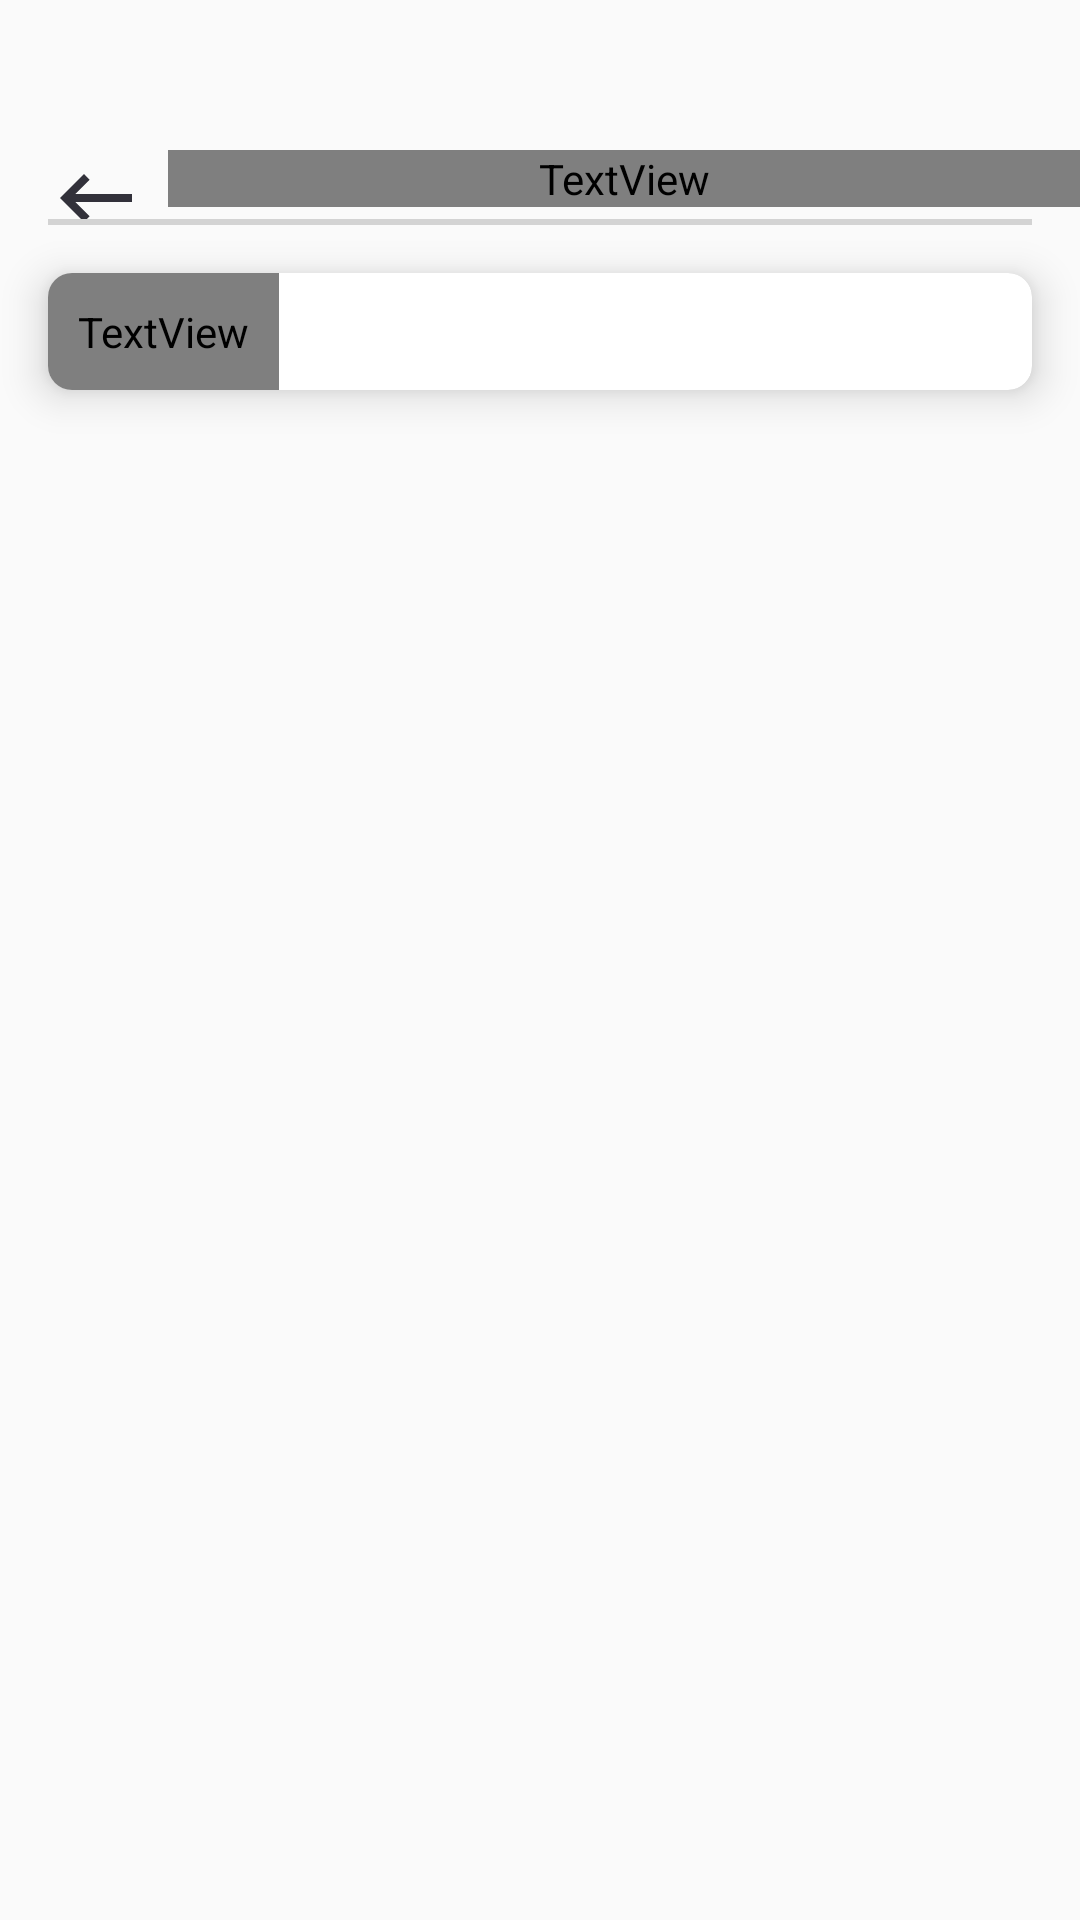

Icons on this 1080*1920 Android screen, each with the point to tap as (x=x, y=y):
keyboard backspace: (x=96, y=199)
